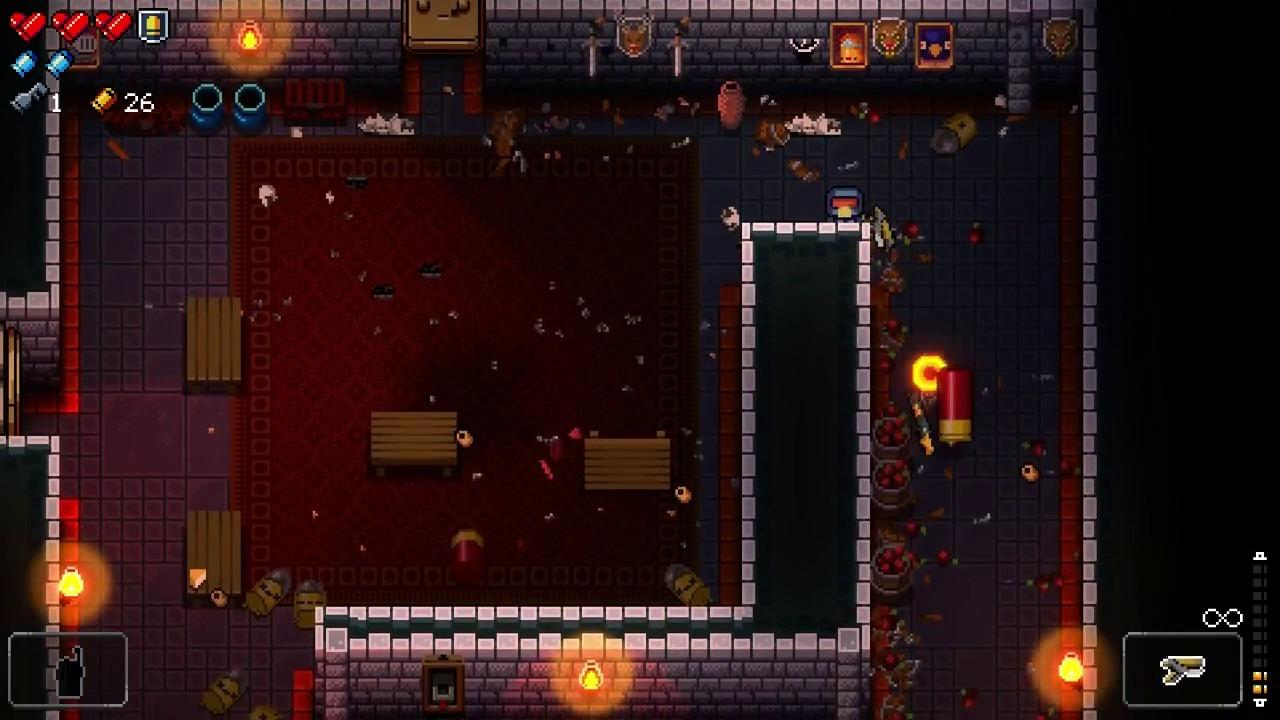bullet_kin: (199, 668, 249, 715)
dead_bullet_kin: (241, 567, 291, 620), (663, 562, 714, 609), (931, 109, 978, 156), (294, 580, 326, 630)
dead_red_shotgun_kin: (450, 530, 484, 586)
locked_door: (400, 0, 485, 55)
player: (825, 185, 864, 222)
table: (370, 412, 459, 479), (186, 512, 243, 608), (185, 298, 241, 393), (583, 431, 671, 491)
